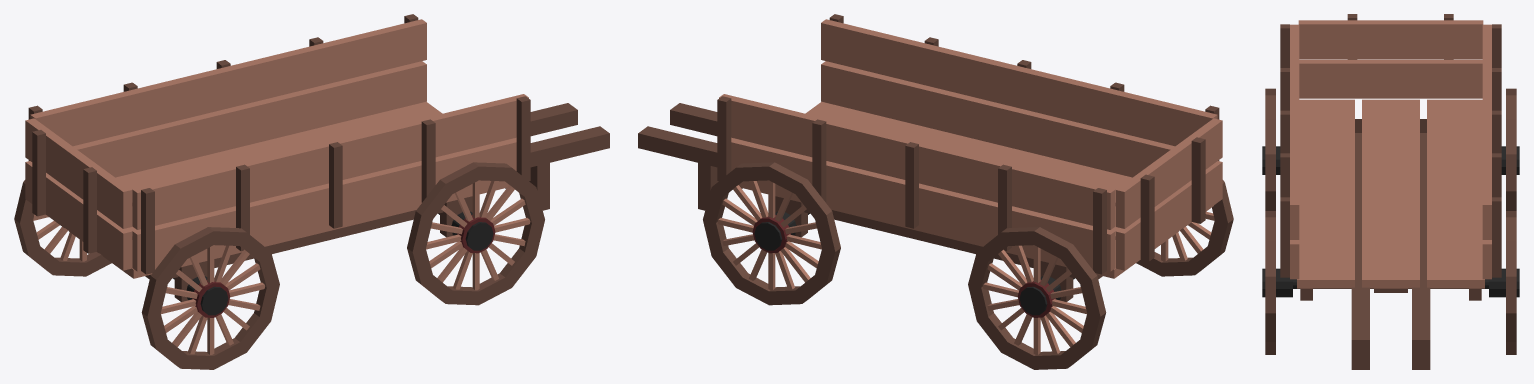
The model's file is Cart.fbx.
The picture shows the model from 3 angles, left to right: view 1: azimuth 30°, elevation 25°; view 2: azimuth 150°, elevation 25°; view 3: azimuth 270°, elevation 25°; orthographic projection. The views are drawn at different scales.
Visible parts, largest first — view 1: Cart; view 2: Cart; view 3: Cart.
Part boxes in pixels (left/top/right/bottom): Cart: left=14, top=14, right=609, bottom=369; Cart: left=638, top=14, right=1233, bottom=369; Cart: left=1262, top=14, right=1519, bottom=369.
Bounding box in the file's own units: 1185 × 400 × 534.
